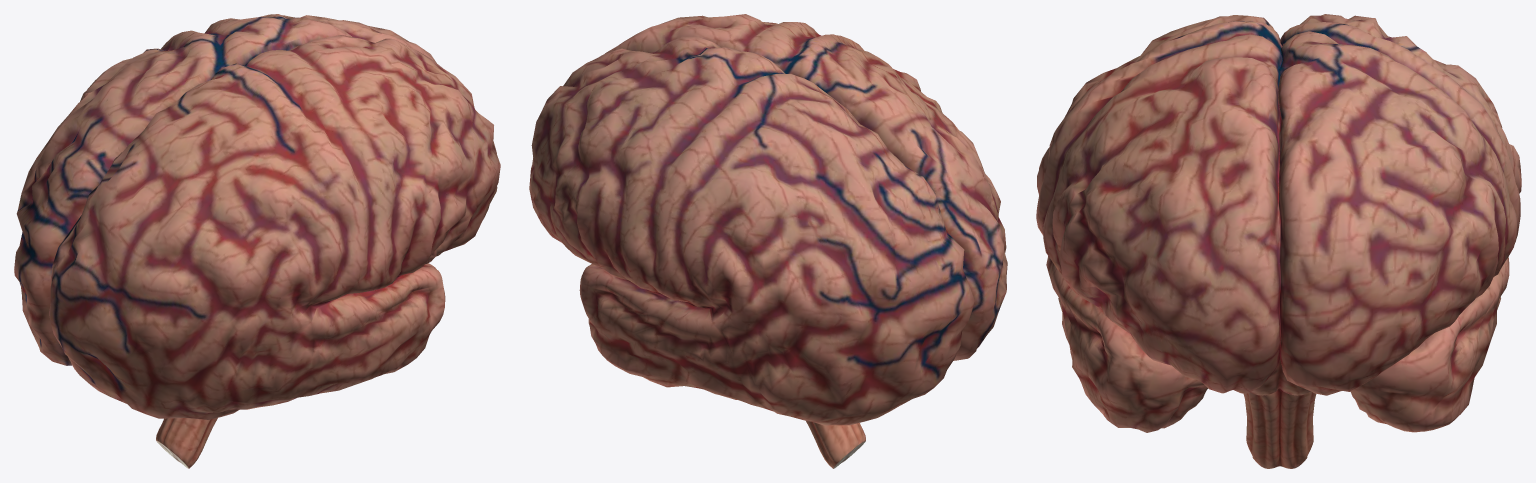
The model's file is brain-small.glb.
3 views of the same model, side by side, from view 1: azimuth 30°, elevation 25°; view 2: azimuth 150°, elevation 25°; view 3: azimuth 270°, elevation 25° (orthographic). The views are drawn at different scales.
Visible parts, largest first — view 1: defaultMaterial; view 2: defaultMaterial; view 3: defaultMaterial.
Part boxes in pixels (x1,y1,x2,y2): defaultMaterial: (14,14,500,468); defaultMaterial: (529,14,1007,468); defaultMaterial: (1036,14,1521,468).
Size of the model in its own units: 2 by 1.79 by 1.63.
Materials: 1 (1 with a texture image).
